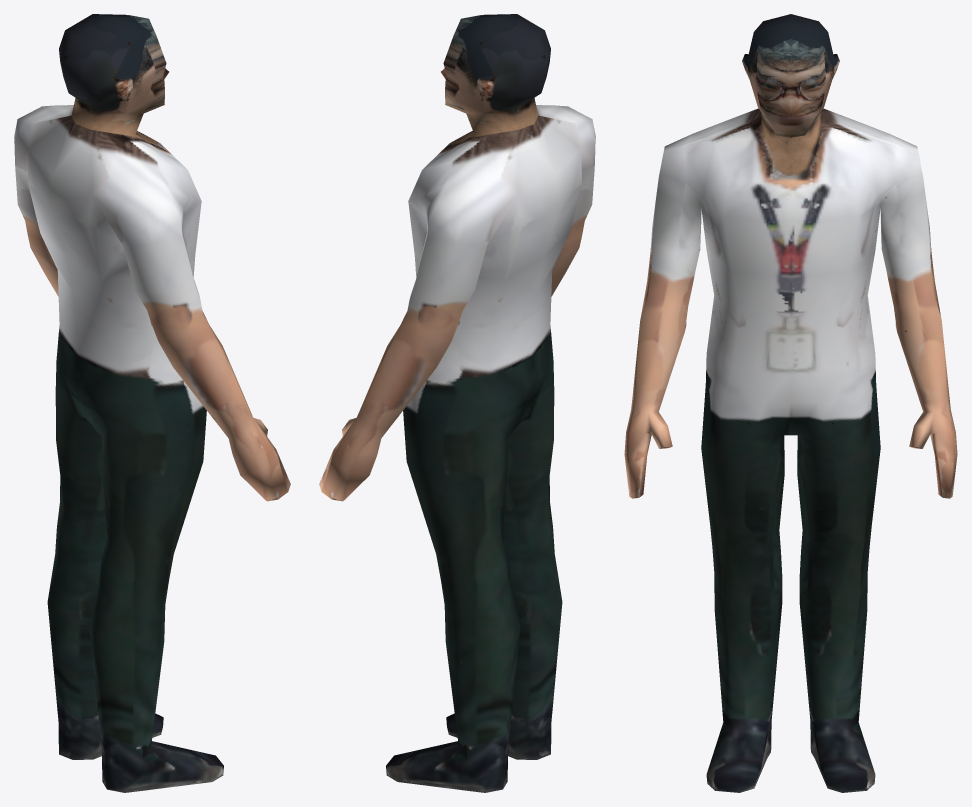
The model's file is juswa.fbx.
The picture shows the model from 3 angles, left to right: view 1: azimuth 30°, elevation 25°; view 2: azimuth 150°, elevation 25°; view 3: azimuth 270°, elevation 25°; orthographic projection.
Visible parts, largest first — view 1: juswa; view 2: juswa; view 3: juswa.
Boxes of the visible parts, x1,y1,x2,y2 form: juswa: (14,14,290,792); juswa: (319,14,595,792); juswa: (624,14,957,792).
Size of the model in its own units: 92.32 by 404 by 166.
